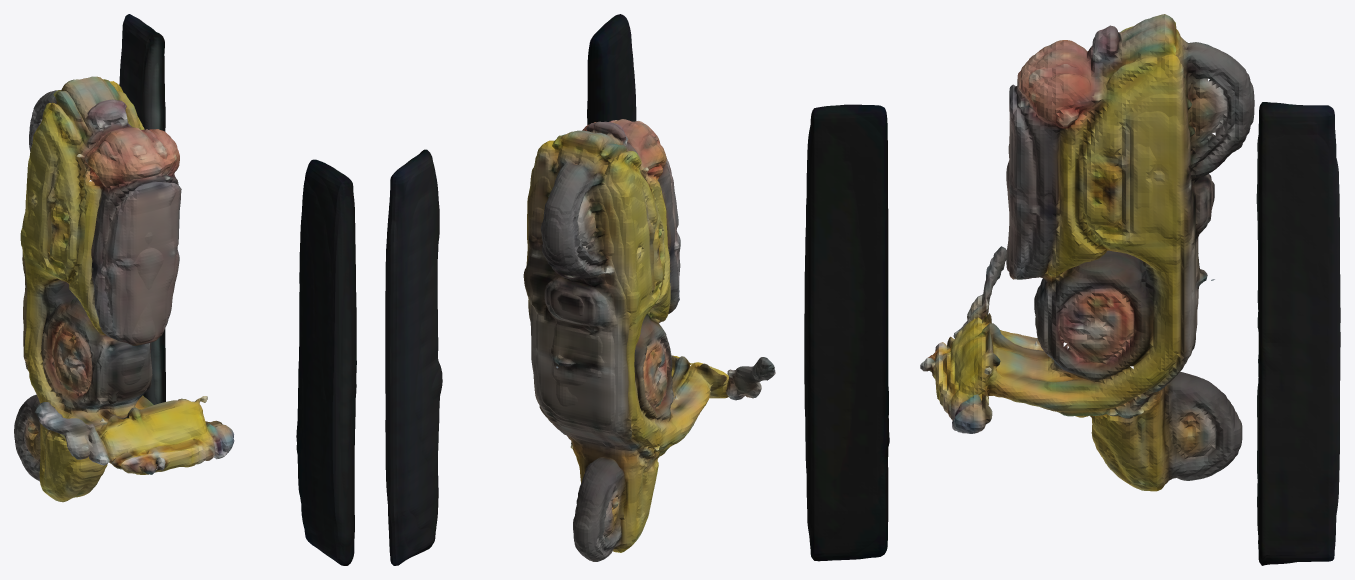
Rendered from 000025_vespa_scooter_bicycle.glb.
The picture shows the model from 3 angles, left to right: view 1: azimuth 30°, elevation 25°; view 2: azimuth 150°, elevation 25°; view 3: azimuth 270°, elevation 25°; orthographic projection. The views are drawn at different scales.
Visible parts, largest first — view 1: world; view 2: world; view 3: world.
Boxes of the visible parts, left/top/right/bottom form: world: left=14, top=14, right=356, bottom=565; world: left=385, top=14, right=775, bottom=565; world: left=804, top=14, right=1340, bottom=565.
Size of the model in its own units: 0.5789 by 0.9277 by 0.9395.
